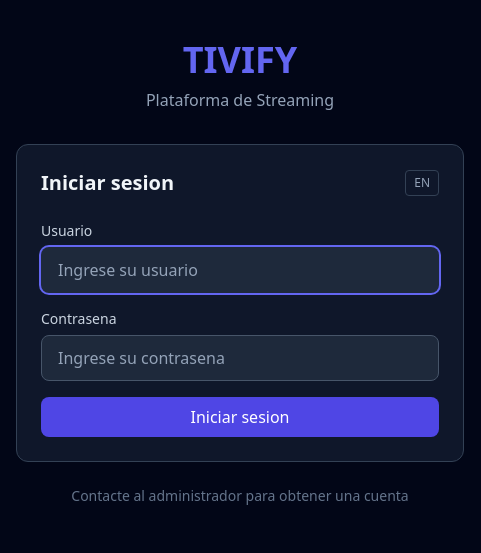
Test: LoginPage › shows error on 401 response
This screenshot has width=481, height=553.
Type "admin" into the field labelled "Usuario" at (240, 270), box x1=41 y1=247 x2=439 y2=293
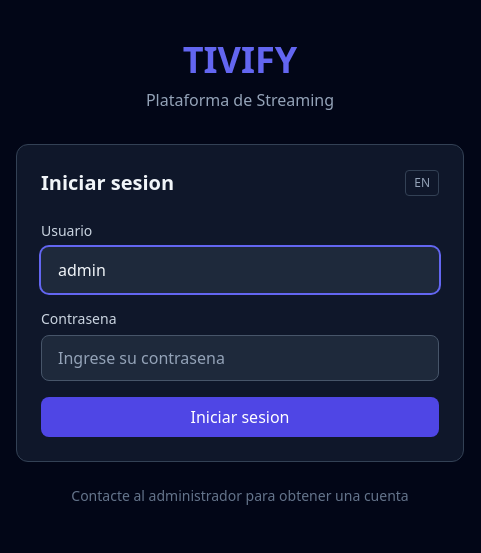
Type "wrongpass" into the password field labelled "Contrasena" at (240, 358), box x1=41 y1=335 x2=439 y2=381
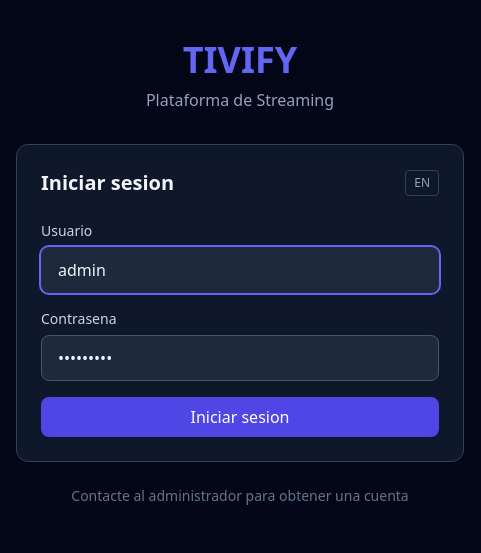
Click the button "Iniciar sesion" at (240, 417), box x1=41 y1=397 x2=439 y2=437
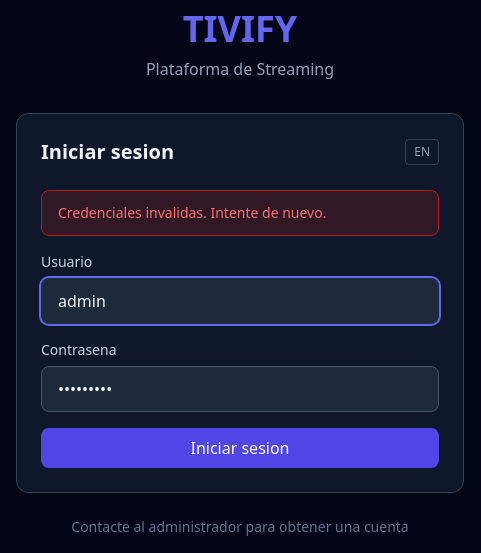
Now the text "Credenciales invalidas. Intente de nuevo." is shown, box x1=41 y1=190 x2=439 y2=236
